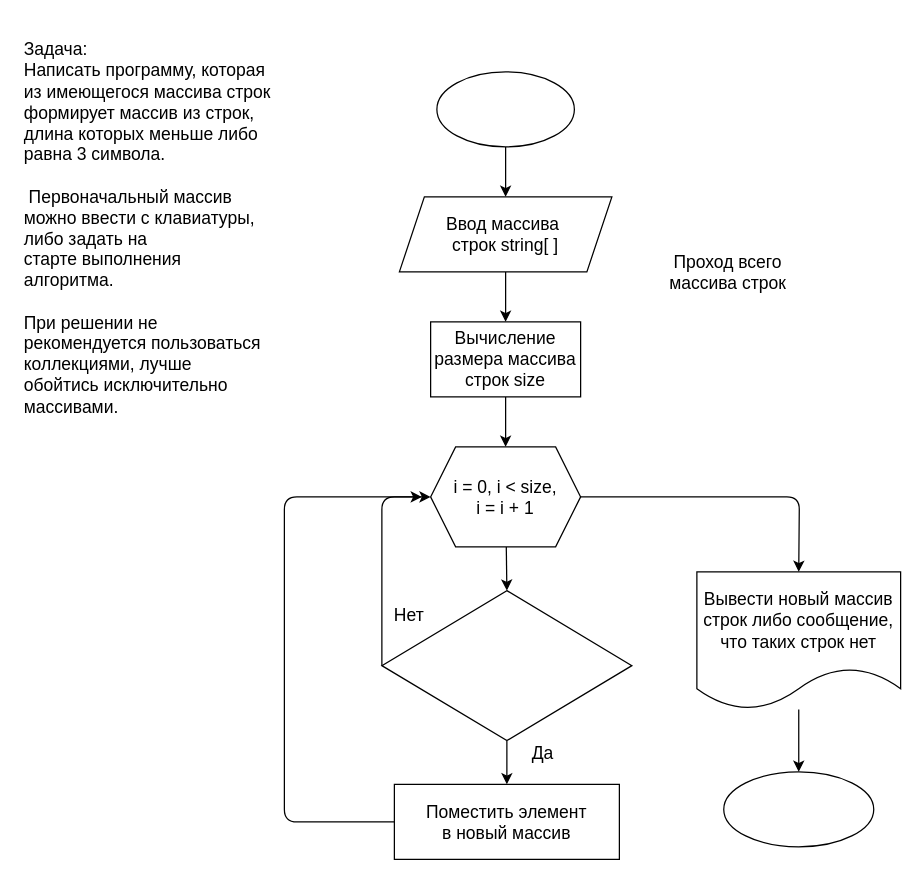
Image size: 923x881. Some labels were removed from this diagram. Here are the shapes that lost their labels. From the top down, the box of each, then its label:
(436, 71, 574, 147): Начало
(381, 589, 632, 741): Длина элемента строки <= 3
(722, 771, 874, 847): Конец
